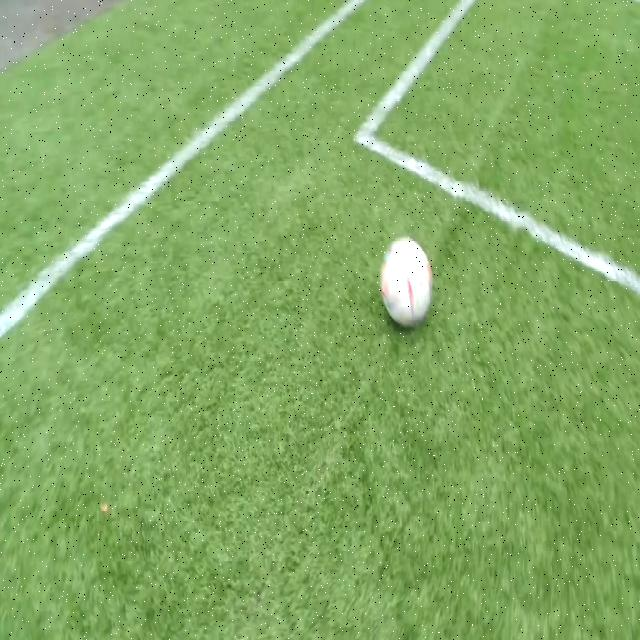ball: (380, 237, 433, 328)
